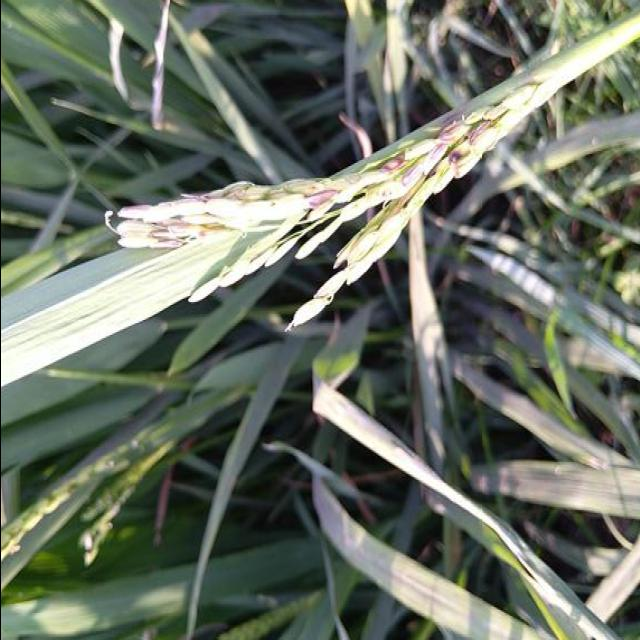Panicle Blight: (420, 111, 507, 203), (117, 179, 252, 221), (373, 147, 437, 185), (291, 190, 340, 212), (435, 123, 460, 145)
